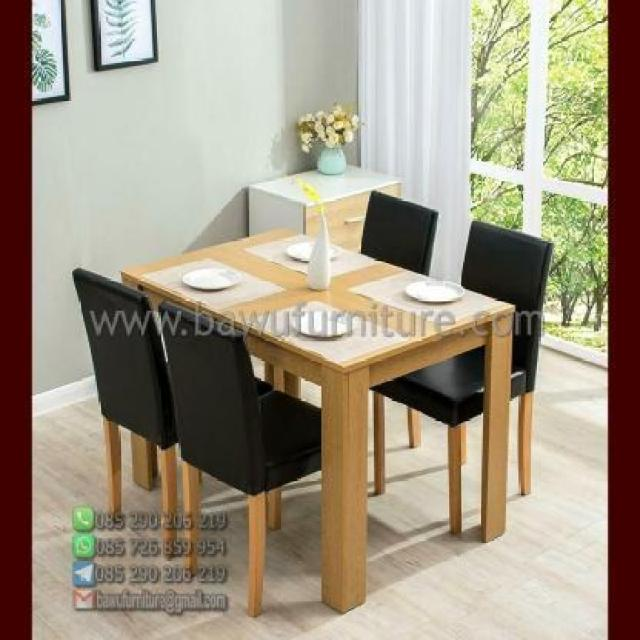tables: (118, 224, 516, 614)
